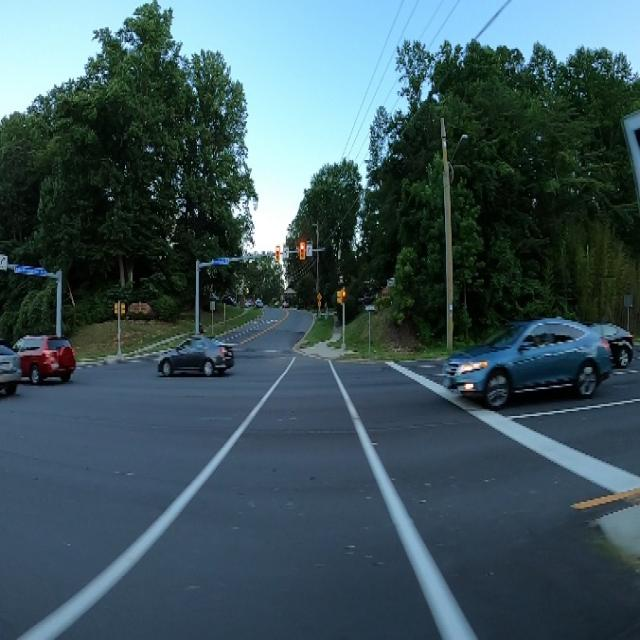car: (439, 303, 624, 423), (8, 322, 79, 392), (154, 327, 235, 382)
